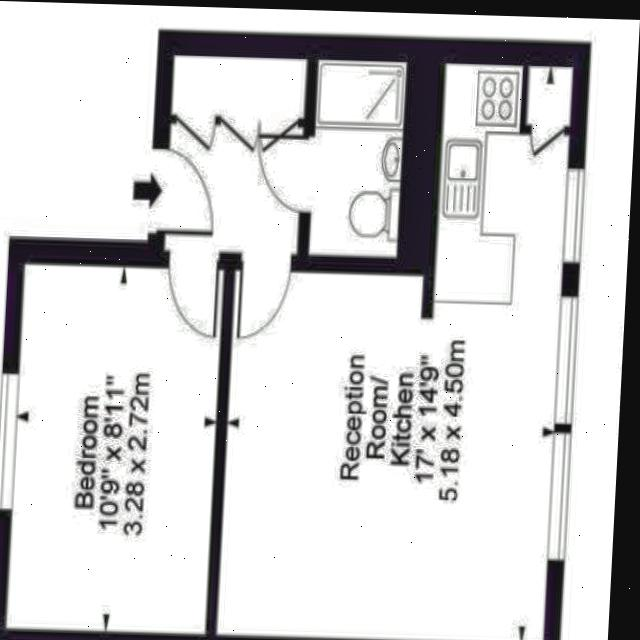room: (217, 48, 571, 640), (6, 261, 221, 636), (164, 50, 305, 254), (308, 61, 406, 260)
